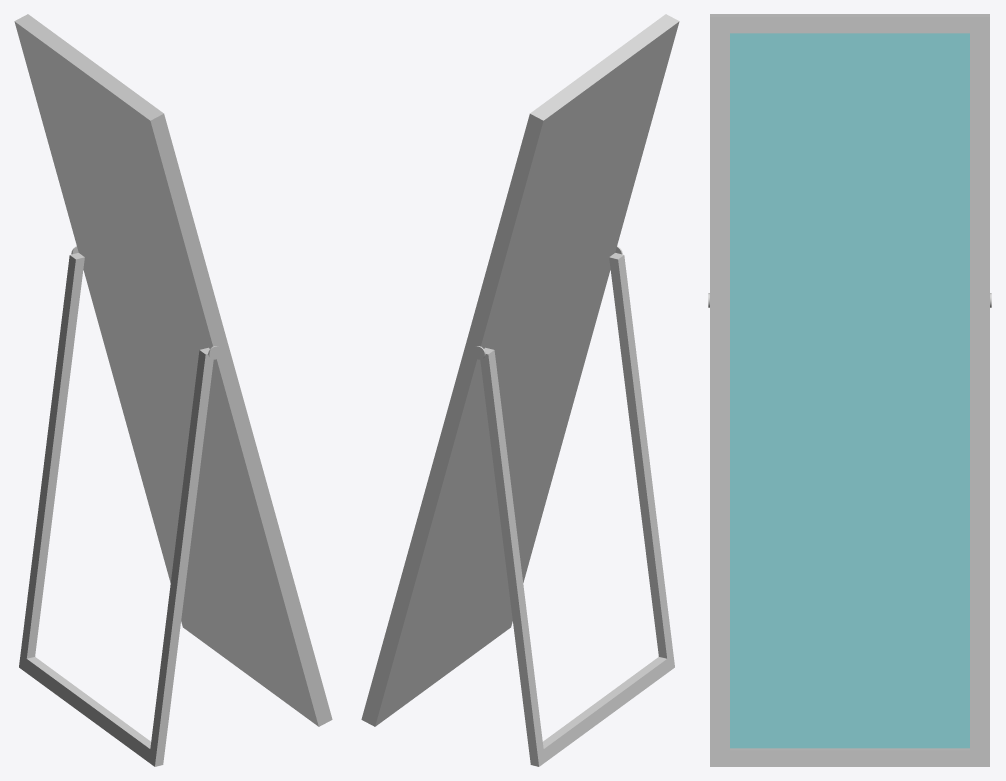
File: espejoPie1.fbx
3 views of the same model, side by side, from view 1: azimuth 30°, elevation 25°; view 2: azimuth 150°, elevation 25°; view 3: azimuth 270°, elevation 25° (orthographic). The views are drawn at different scales.
Parts seen in each view (by area): view 1: EspejoPie1; view 2: EspejoPie1; view 3: EspejoPie1.
Boxes of the visible parts, x1,y1,x2,y2 form: EspejoPie1: (14,14,332,766); EspejoPie1: (361,14,679,766); EspejoPie1: (708,14,991,766).
Bounding box in the file's own units: 652 × 2228 × 854.
